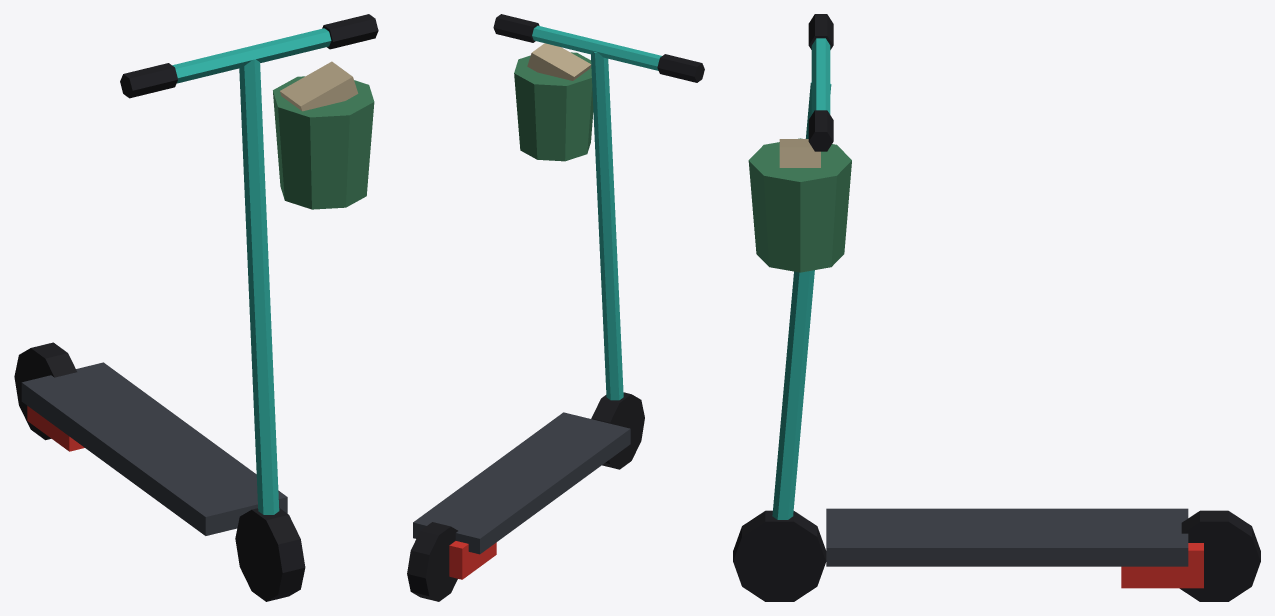
Rendered from kick_scooter.glb.
3 views of the same model, side by side, from view 1: azimuth 30°, elevation 25°; view 2: azimuth 150°, elevation 25°; view 3: azimuth 270°, elevation 25° (orthographic). The views are drawn at different scales.
Parts seen in each view (by area): view 1: deck_kick_deck, frame_kick_frame, bag_bag_weave, wheels_tire, frame_kick_grip, bag_egg_carton, deck_kick_motor; view 2: deck_kick_deck, frame_kick_frame, bag_bag_weave, wheels_tire, frame_kick_grip, bag_egg_carton, deck_kick_motor; view 3: deck_kick_deck, wheels_tire, bag_bag_weave, frame_kick_frame, deck_kick_motor, frame_kick_grip, bag_egg_carton.
Boxes of the visible parts, x1,y1,x2,y2 form: deck_kick_deck: (21,362,287,535); frame_kick_frame: (172,28,331,514); bag_bag_weave: (273,76,374,209); wheels_tire: (14,342,305,601); frame_kick_grip: (120,14,378,98); bag_egg_carton: (280,61,358,111); deck_kick_motor: (27,406,84,451); deck_kick_deck: (413,412,630,554); frame_kick_frame: (532,25,661,400); bag_bag_weave: (514,52,593,161); wheels_tire: (407,392,644,601); frame_kick_grip: (493,14,704,82); bag_egg_carton: (527,43,591,80); deck_kick_motor: (449,541,496,579); deck_kick_deck: (826,508,1188,566); wheels_tire: (733,510,1260,601); bag_bag_weave: (748,138,851,272); frame_kick_frame: (772,38,831,519); deck_kick_motor: (1121,543,1203,588); frame_kick_grip: (808,14,833,151); bag_egg_carton: (779,139,820,167).
Size of the model in its own units: 0.54 by 1.12 by 1.02.
